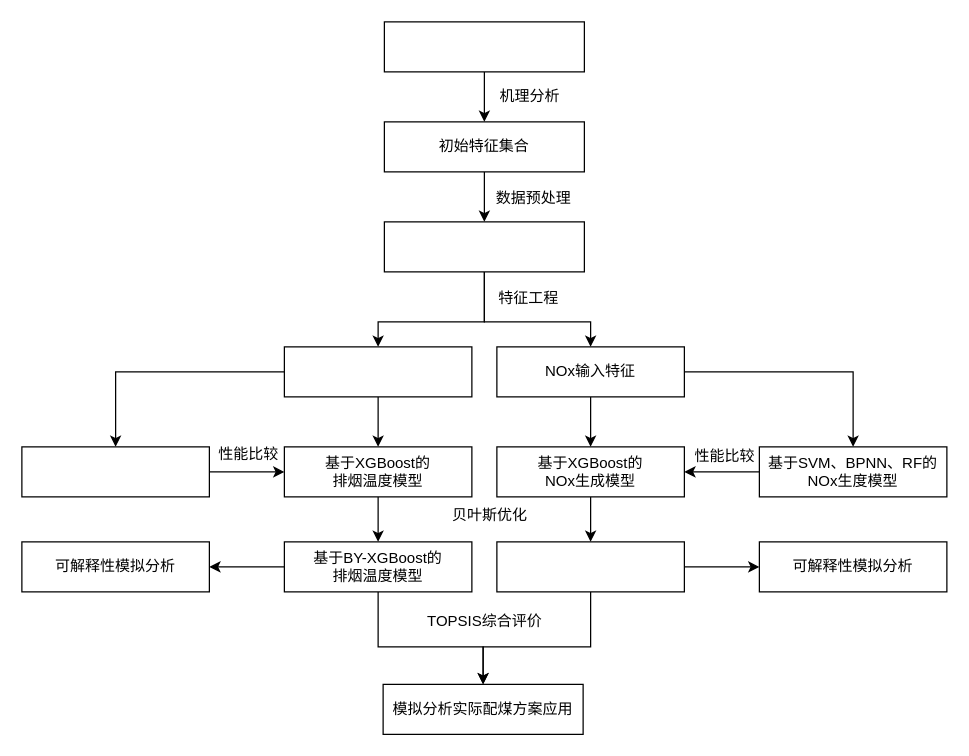
Image size: 969x756. Some labels were removed from this diagram. The centre of each missing label's shape, as x and y in pixels:
"DCS系统历史运行数据" goes at point (483, 46).
"基于BY-XGBoost的 NOx生成模型" goes at point (590, 566).
"基于SVM、BPNN、RF的 排烟温度模型" goes at point (115, 471).
"排烟温度输入特征" goes at point (377, 371).
"输入特征总集合" goes at point (483, 246).
